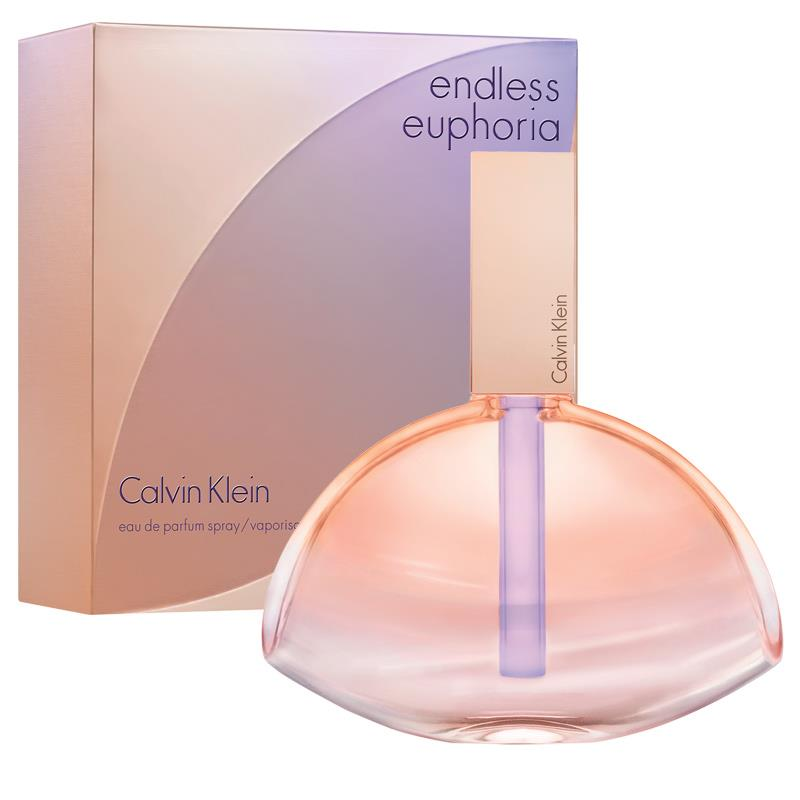Calvin Klein: (115, 468, 274, 512), (543, 287, 570, 386)
